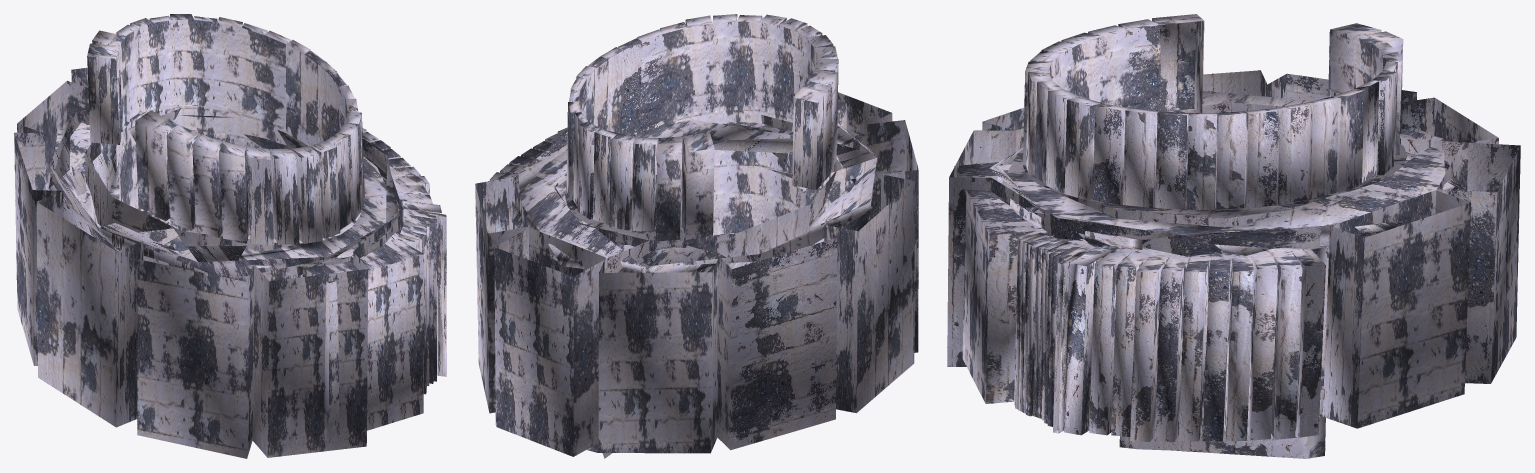
Rendered from engrenage.obj.
3 views of the same model, side by side, from view 1: azimuth 30°, elevation 25°; view 2: azimuth 150°, elevation 25°; view 3: azimuth 270°, elevation 25° (orthographic). The views are drawn at different scales.
Parts seen in each view (by area): view 1: engranage_Cube.016; view 2: engranage_Cube.016; view 3: engranage_Cube.016.
Part boxes in pixels (x1,y1,x2,y2): engranage_Cube.016: (14,14,446,458); engranage_Cube.016: (475,14,918,458); engranage_Cube.016: (947,14,1520,458).
Size of the model in its own units: 14587 by 14103 by 19610.
1 material, 1 textured.
